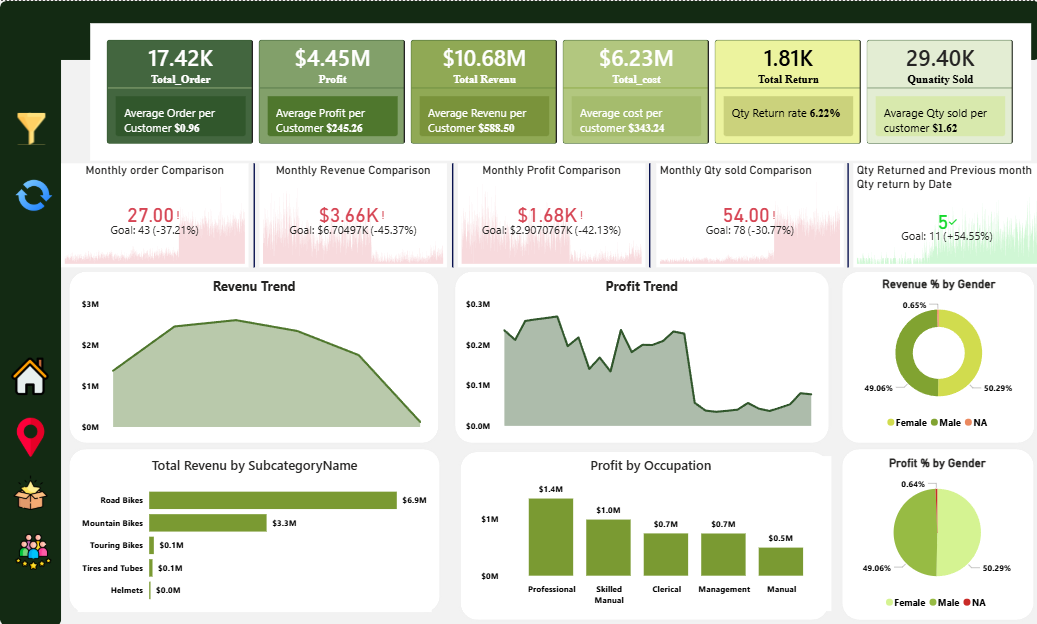

This screenshot's page, from the dashboard's own definition file:
{"tool":"powerbi","page":{"name":"Home page","canvas":[1500,900],"ordinal":0},"visuals":[{"type":"shape","box":[0,0,1500,85],"z":0},{"type":"shape","box":[0,63.3,88.3,836.7],"z":1000},{"type":"cardVisual","fields":{"Data":["Measure_Table.Total_Order","Measure_Table.Profit","Measure_Table.Total Revenu","Measure_Table.Total_cost","Measure_Table.Total Returns","Measure_Table.Qunatity Sold"]},"box":[130,31.7,1356.7,198.3],"z":2000},{"type":"kpi","title":"Monthly order Comparison","fields":{"Goal":["Measure_Table.Previous month orders"],"Indicator":["Measure_Table.Total_Order"],"TrendLine":["Calendar Lookup.Date"]},"box":[88.8,233.9,270,150],"z":3000},{"type":"shape","box":[354,233.9,25,150],"z":4000},{"type":"kpi","title":"Monthly Revenue Comparison","fields":{"TrendLine":["Calendar Lookup.Date"],"Indicator":["Measure_Table.Total Revenu"],"Goal":["Measure_Table.Previous month revenue"]},"box":[374.2,233.9,270,150],"z":5000},{"type":"kpi","title":"Monthly Profit Comparison","fields":{"TrendLine":["Calendar Lookup.Date"],"Indicator":["Measure_Table.Profit"],"Goal":["Measure_Table.Previous month profit"]},"box":[659.6,233.9,270,150],"z":6000},{"type":"kpi","title":"Monthly Qty sold Comparison","fields":{"TrendLine":["Calendar Lookup.Date"],"Indicator":["Measure_Table.Qunatity Sold"],"Goal":["Measure_Table.Previous month Qty sold"]},"box":[945,233.9,270,150],"z":7000},{"type":"kpi","fields":{"TrendLine":["Calendar Lookup.Date"],"Indicator":["Measure_Table.Qty Returned"],"Goal":["Measure_Table.Previous month Qty return"]},"box":[1230.4,233.9,270,150],"z":8000},{"type":"shape","box":[1210.2,233.9,25,150],"z":9000},{"type":"shape","box":[924.8,233.9,25,150],"z":10000},{"type":"shape","box":[639.4,233.9,25,150],"z":11000},{"type":"shape","box":[96.7,385.6,540,255],"z":12000},{"type":"shape","box":[1210,385.6,285,255],"z":13000},{"type":"shape","box":[651.7,385.6,546.7,255],"z":14000},{"type":"lineChart","title":"Revenu Trend","fields":{"Category":["Calendar Lookup.Date Hierarchy.Year","Calendar Lookup.Date Hierarchy.Start of Week","Calendar Lookup.Date Hierarchy.Day Name","Calendar Lookup.Date Hierarchy.Start of Month","Calendar Lookup.Date Hierarchy.Week of Month"],"Y":["Measure_Table.Total Revenu"]},"box":[112.9,397.1,508.6,230],"z":15000},{"type":"lineChart","title":"Profit Trend","fields":{"Category":["Calendar Lookup.Date Hierarchy.Year","Calendar Lookup.Date Hierarchy.Start of Week","Calendar Lookup.Date Hierarchy.Day Name","Calendar Lookup.Date Hierarchy.Start of Month","Calendar Lookup.Date Hierarchy.Week of Month"],"Y":["Measure_Table.Profit"]},"box":[665,398.9,518.3,228.3],"z":16000},{"type":"donutChart","title":"Revenue % by Gender","fields":{"Category":["Customer Lookup.Gender"],"Y":["Measure_Table.Total Revenu"]},"box":[1223.3,398.9,258.3,228.3],"z":17000},{"type":"shape","box":[95,641.7,541.7,243.3],"z":18000},{"type":"shape","box":[660,645,538.3,250],"z":19000},{"type":"shape","box":[1210,642,284,254],"z":20000},{"type":"clusteredBarChart","fields":{"Category":["Product SubcategoryKey Lookup.SubcategoryName"],"Y":["Measure_Table.Total Revenu"]},"box":[111.7,655,510,225],"z":21000},{"type":"columnChart","fields":{"Y":["Measure_Table.Profit"],"Category":["Customer Lookup.Occupation"]},"box":[678.3,655,520,223.3],"z":22000},{"type":"pieChart","title":"Profit % by Gender","fields":{"Category":["Customer Lookup.Gender"],"Y":["Measure_Table.Profit"]},"box":[1222,656,258,230],"z":23000},{"type":"image","box":[14,514,58,54],"z":24000},{"type":"image","box":[16,600,56,58],"z":25000},{"type":"image","box":[20,768,56,52],"z":26000},{"type":"image","box":[12,684,64,50],"z":27000},{"type":"image","box":[20,252,58,56],"z":28000},{"type":"actionButton","title":"Show Slicer","box":[18,156,54,56],"z":29000}]}

Visuals, with their boxes on the page's 1500x900 design canvas (x1, y1, x2, y2). These are canvas units, not pixel positions in the 1037x624 screenshot, which may show the page scaled, cropped or inside an application window:
shape: rect(0, 0, 1500, 85)
shape: rect(0, 63, 88, 900)
cardVisual - Measure_Table.Total_Order x Measure_Table.Profit: rect(130, 32, 1487, 230)
"Monthly order Comparison" kpi: rect(89, 234, 359, 384)
shape: rect(354, 234, 379, 384)
"Monthly Revenue Comparison" kpi: rect(374, 234, 644, 384)
"Monthly Profit Comparison" kpi: rect(660, 234, 930, 384)
"Monthly Qty sold Comparison" kpi: rect(945, 234, 1215, 384)
kpi - Calendar Lookup.Date x Measure_Table.Qty Returned: rect(1230, 234, 1500, 384)
shape: rect(1210, 234, 1235, 384)
shape: rect(925, 234, 950, 384)
shape: rect(639, 234, 664, 384)
shape: rect(97, 386, 637, 641)
shape: rect(1210, 386, 1495, 641)
shape: rect(652, 386, 1198, 641)
"Revenu Trend" lineChart: rect(113, 397, 622, 627)
"Profit Trend" lineChart: rect(665, 399, 1183, 627)
"Revenue % by Gender" donutChart: rect(1223, 399, 1482, 627)
shape: rect(95, 642, 637, 885)
shape: rect(660, 645, 1198, 895)
shape: rect(1210, 642, 1494, 896)
clusteredBarChart - Product SubcategoryKey Lookup.SubcategoryName x Measure_Table.Total Revenu: rect(112, 655, 622, 880)
columnChart - Measure_Table.Profit x Customer Lookup.Occupation: rect(678, 655, 1198, 878)
"Profit % by Gender" pieChart: rect(1222, 656, 1480, 886)
image: rect(14, 514, 72, 568)
image: rect(16, 600, 72, 658)
image: rect(20, 768, 76, 820)
image: rect(12, 684, 76, 734)
image: rect(20, 252, 78, 308)
"Show Slicer" actionButton: rect(18, 156, 72, 212)
